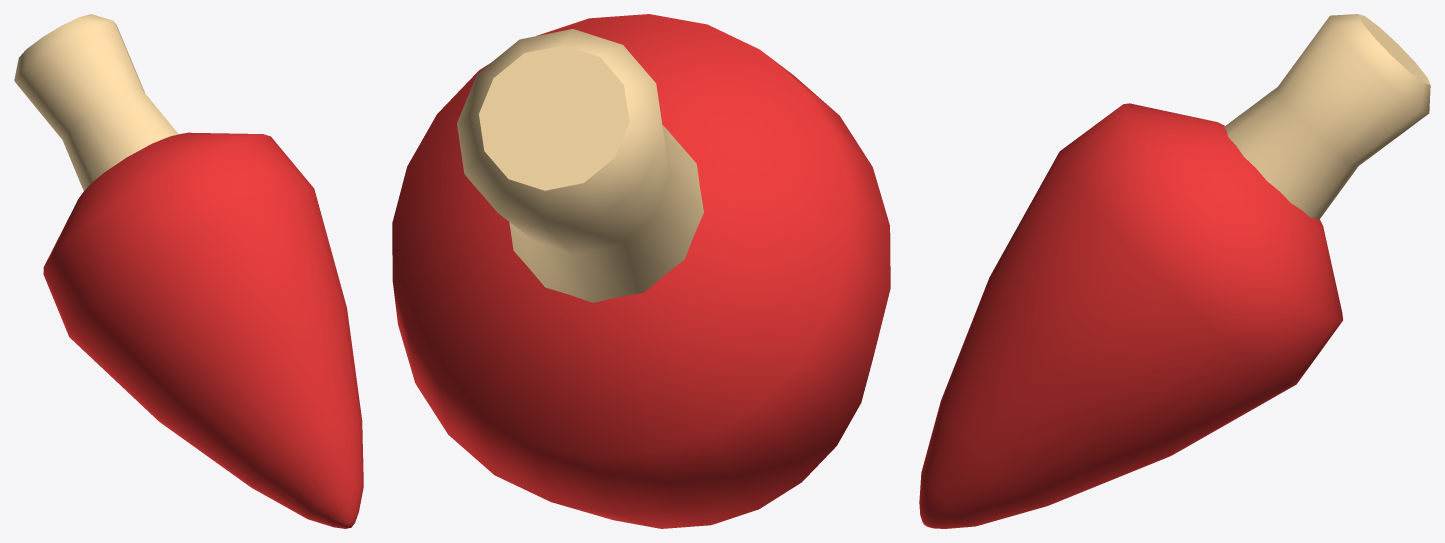
Rendered from ChristmasTree_Dif6_Sc1.fbx.
The picture shows the model from 3 angles, left to right: view 1: azimuth 30°, elevation 25°; view 2: azimuth 150°, elevation 25°; view 3: azimuth 270°, elevation 25°; orthographic projection. The views are drawn at different scales.
Visible parts, largest first — view 1: ChristmasTree_Dif6_Sc1; view 2: ChristmasTree_Dif6_Sc1; view 3: ChristmasTree_Dif6_Sc1.
Boxes of the visible parts, box(x1,y1,x2,y2) form: ChristmasTree_Dif6_Sc1: box(14, 14, 363, 528); ChristmasTree_Dif6_Sc1: box(392, 14, 890, 528); ChristmasTree_Dif6_Sc1: box(919, 14, 1430, 528).
Size of the model in its own units: 0.4251 by 0.6594 by 0.6548.
